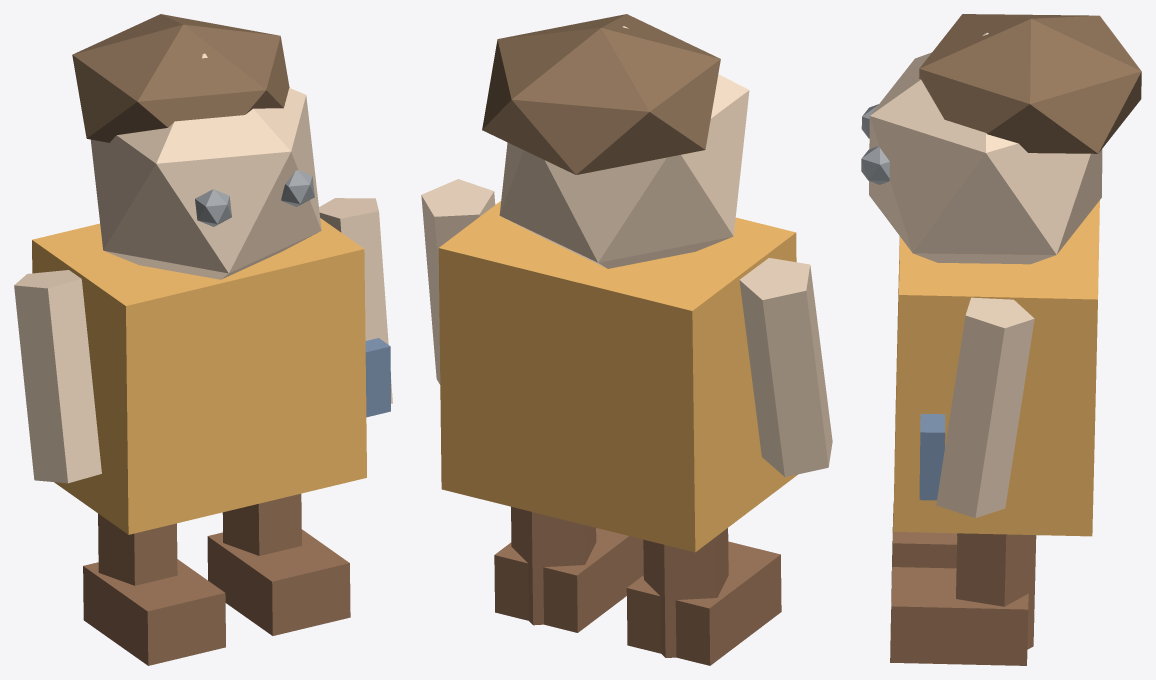
Rendered from npcpose_villager_idle_10.glb.
3 views of the same model, side by side, from view 1: azimuth 30°, elevation 25°; view 2: azimuth 150°, elevation 25°; view 3: azimuth 270°, elevation 25° (orthographic). The views are drawn at different scales.
Visible parts, largest first — view 1: npcpose; view 2: npcpose; view 3: npcpose.
Boxes of the visible parts, x1,y1,x2,y2 form: npcpose: [14, 14, 392, 665]; npcpose: [421, 14, 832, 665]; npcpose: [861, 14, 1141, 665].
Bounding box in the file's own units: 0.6983 × 1.06 × 0.4504.
